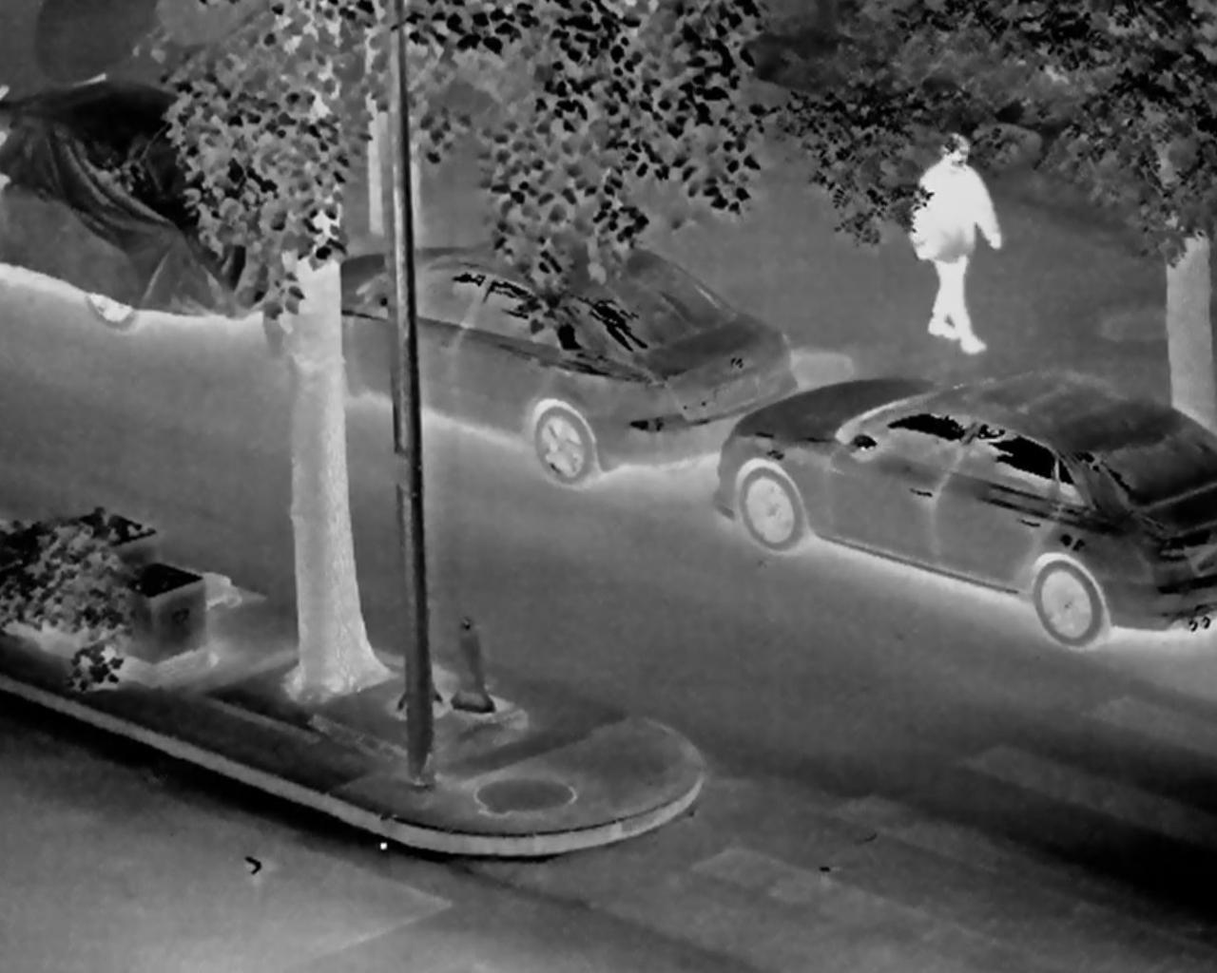person: (906, 124, 1018, 403)
